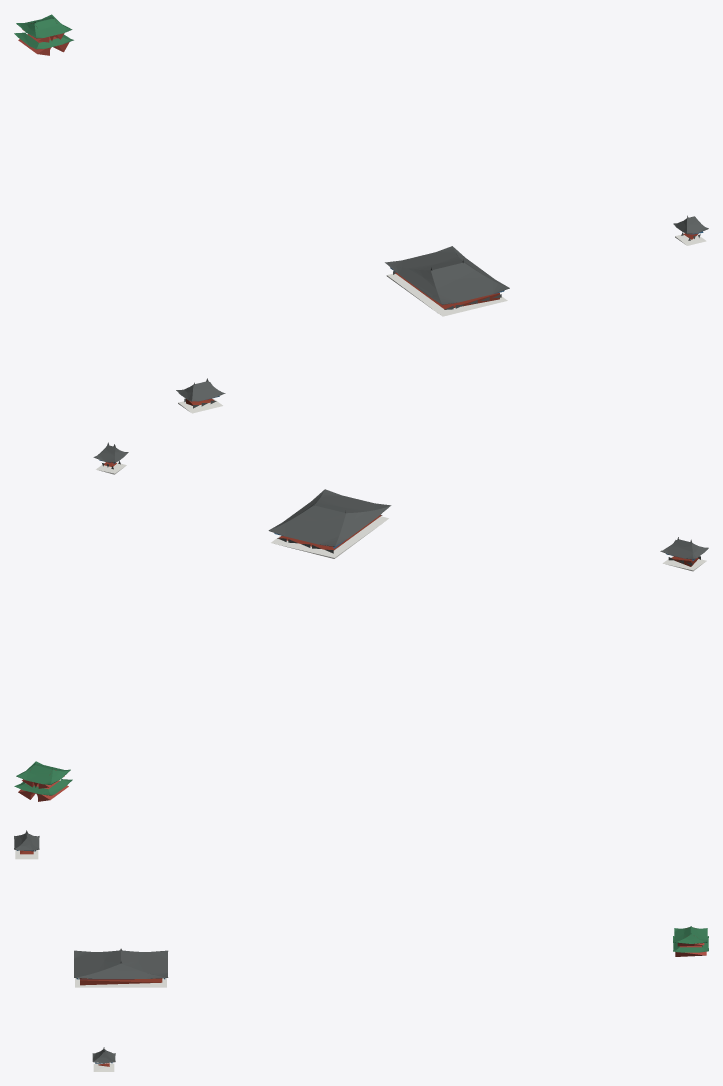
File: yuetan-far-ea2927a2e1.glb
3 renders of one model, top to bottom at view 1: azimuth 30°, elevation 25°; view 2: azimuth 150°, elevation 25°; view 3: azimuth 270°, elevation 25°, orthographic. The views are drawn at different scales.
Visible parts, largest first — view 1: yuetan coarse.001; view 2: yuetan coarse.001; view 3: yuetan coarse.001.
Boxes of the visible parts, left/top/right/bottom form: yuetan coarse.001: left=14, top=14, right=708, bottom=413; yuetan coarse.001: left=14, top=442, right=708, bottom=801; yuetan coarse.001: left=14, top=830, right=708, bottom=1071.
Size of the model in its own units: 227 by 11 by 295.
